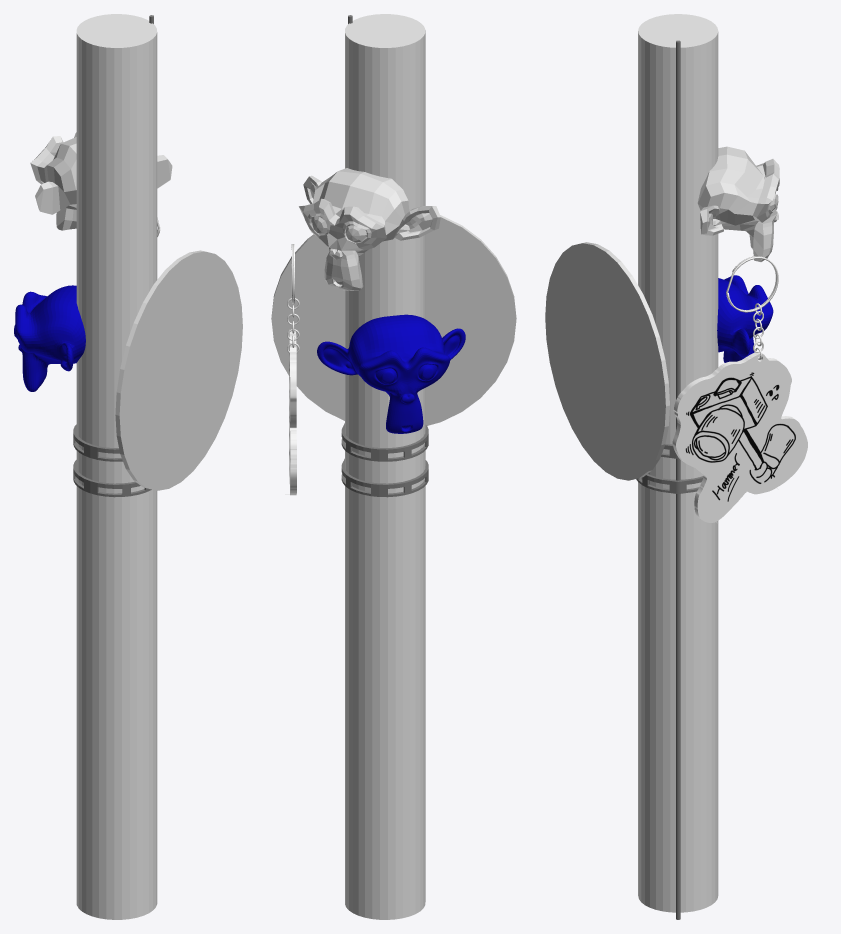
Rendered from dianxgan333.glb.
The picture shows the model from 3 angles, left to right: view 1: azimuth 30°, elevation 25°; view 2: azimuth 150°, elevation 25°; view 3: azimuth 270°, elevation 25°; orthographic projection.
Visible parts, largest first — view 1: dianxiangan111, lupai, xifenhou, hou; view 2: dianxiangan111, lupai, hou, xifenhou, 矩形_1; view 3: dianxiangan111, lupai, logo, hou, 矩形_1, xifenhou.
Boxes of the visible parts, x1,y1,x2,y2 form: dianxiangan111: [73, 14, 157, 919]; lupai: [115, 250, 242, 490]; xifenhou: [14, 285, 85, 391]; hou: [30, 132, 172, 230]; dianxiangan111: [341, 14, 428, 919]; lupai: [271, 215, 516, 425]; hou: [299, 168, 440, 290]; xifenhou: [317, 314, 465, 433]; 矩形_1: [285, 329, 296, 495]; dianxiangan111: [636, 14, 718, 919]; lupai: [545, 242, 669, 480]; logo: [682, 363, 801, 516]; hou: [697, 146, 779, 261]; 矩形_1: [672, 351, 807, 522]; xifenhou: [717, 275, 773, 362].
Bounding box in the file's own units: 5.75 × 24.15 × 7.02.
6 materials, 1 textured.
